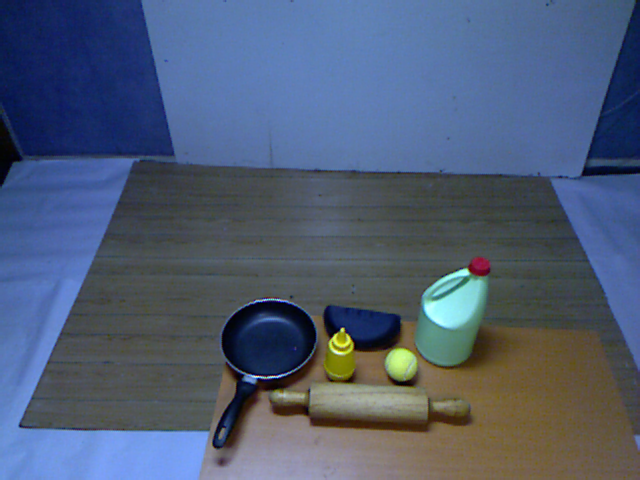cloroplano: (406, 254, 497, 370)
estuche: (319, 301, 406, 349)
mostaza: (320, 323, 357, 386)
pelota: (382, 345, 420, 385)
sarten: (203, 295, 322, 455)
uslero: (265, 381, 475, 440)
